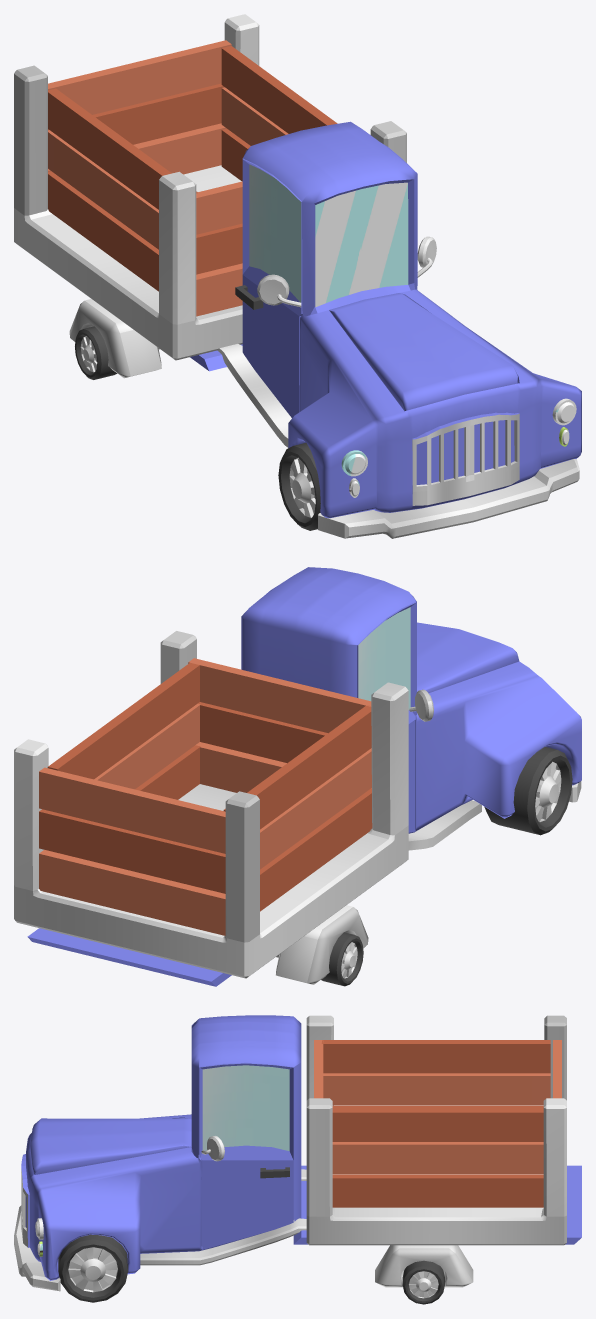
Rendered from wood truck.fbx.
The picture shows the model from 3 angles, top to bottom: view 1: azimuth 30°, elevation 25°; view 2: azimuth 150°, elevation 25°; view 3: azimuth 270°, elevation 25°; orthographic projection. The views are drawn at different scales.
Visible parts, largest first — view 1: truck, wheel, wheel4; view 2: truck, wheel, wheel4; view 3: truck, wheel3, wheel2.
Boxes of the visible parts, x1,y1,x2,y2 form: truck: [14, 14, 581, 538]; wheel: [278, 443, 320, 530]; wheel4: [75, 326, 117, 379]; truck: [14, 567, 581, 986]; wheel: [484, 747, 572, 835]; wheel4: [321, 932, 363, 986]; truck: [14, 1015, 581, 1291]; wheel3: [58, 1234, 128, 1302]; wheel2: [402, 1260, 444, 1304].
Size of the model in its own units: 41.35 by 41.79 by 95.67.
Materials: 1 (1 with a texture image).
